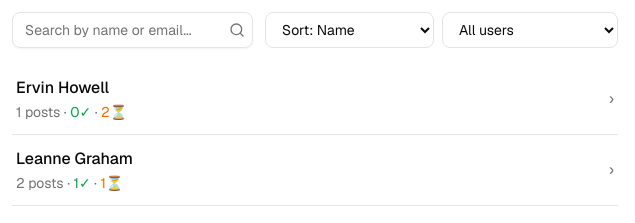
Test: applies search immediately on Search button click
Type "Ervin" into the field with placeholder "Search by name or email...".
click(132, 30); type("Ervin")  # box x1=12 y1=12 x2=253 y2=48
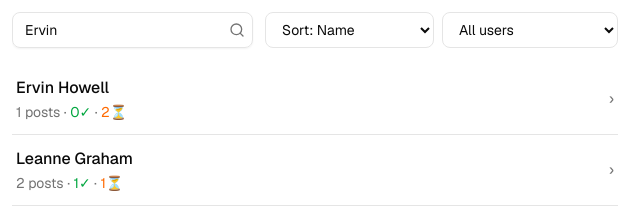
Click the button named "search".
click(237, 30)  # box x1=229 y1=22 x2=245 y2=38
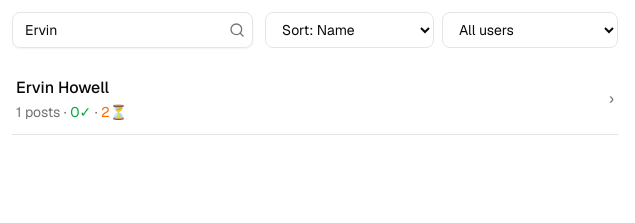
Check: the text "Ervin Howell" is shown, box x1=16 y1=77 x2=109 y2=98
Check: the link "Leanne Graham" is gone
